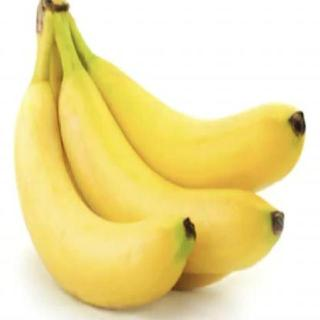banana: (57, 70, 285, 283), (12, 79, 199, 312), (82, 59, 306, 204)
